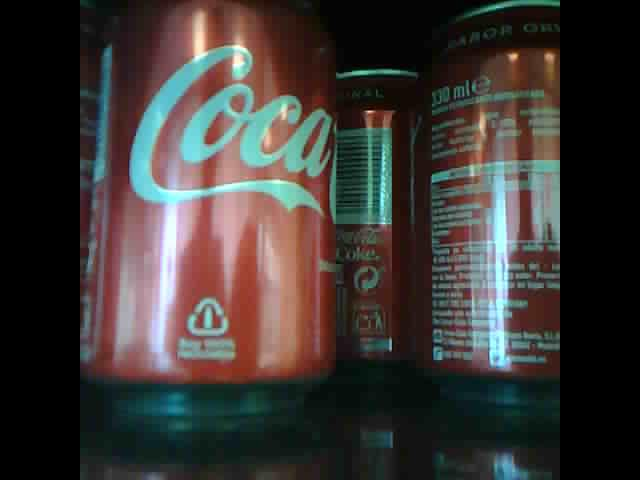coca cola: (79, 1, 338, 420), (417, 1, 561, 386), (335, 63, 417, 370)
